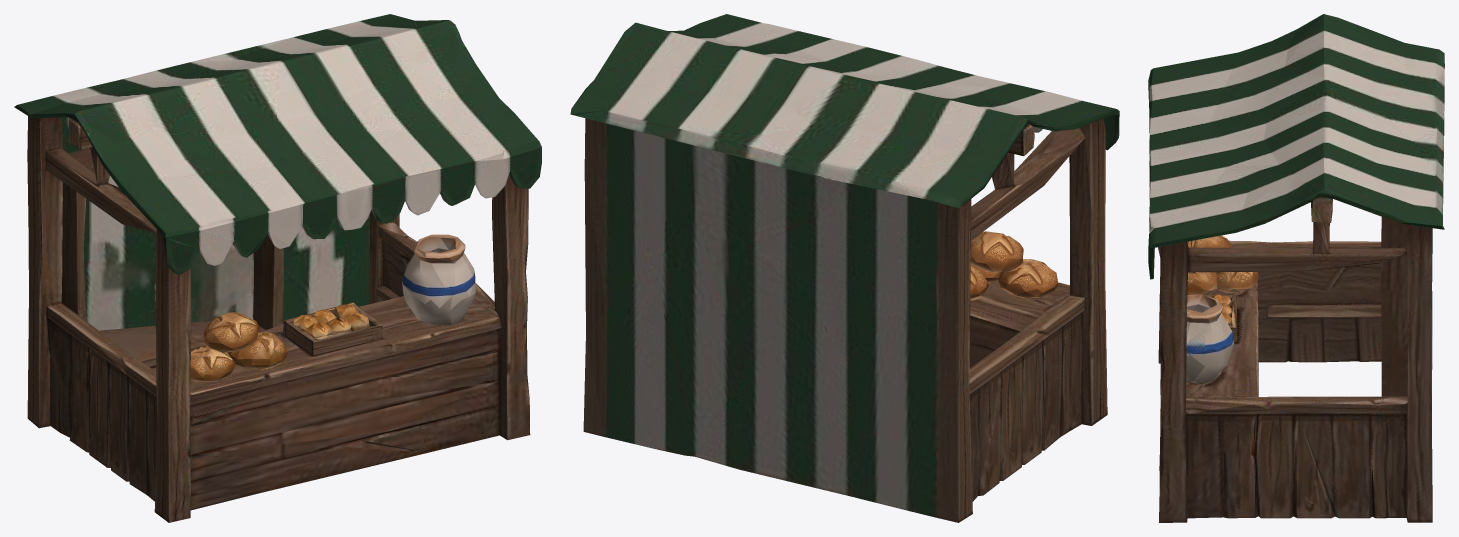
Rendered from stall_bread_3d.glb.
The picture shows the model from 3 angles, left to right: view 1: azimuth 30°, elevation 25°; view 2: azimuth 150°, elevation 25°; view 3: azimuth 270°, elevation 25°; orthographic projection. The views are drawn at different scales.
Parts seen in each view (by area): view 1: Mesh_0; view 2: Mesh_0; view 3: Mesh_0.
Boxes of the visible parts, <box> form: Mesh_0: <box>14,14,541,522</box>; Mesh_0: <box>570,14,1119,522</box>; Mesh_0: <box>1148,14,1444,522</box>.
Bounding box in the file's own units: 2.86 × 2.5 × 1.99.
1 material, 1 textured.
